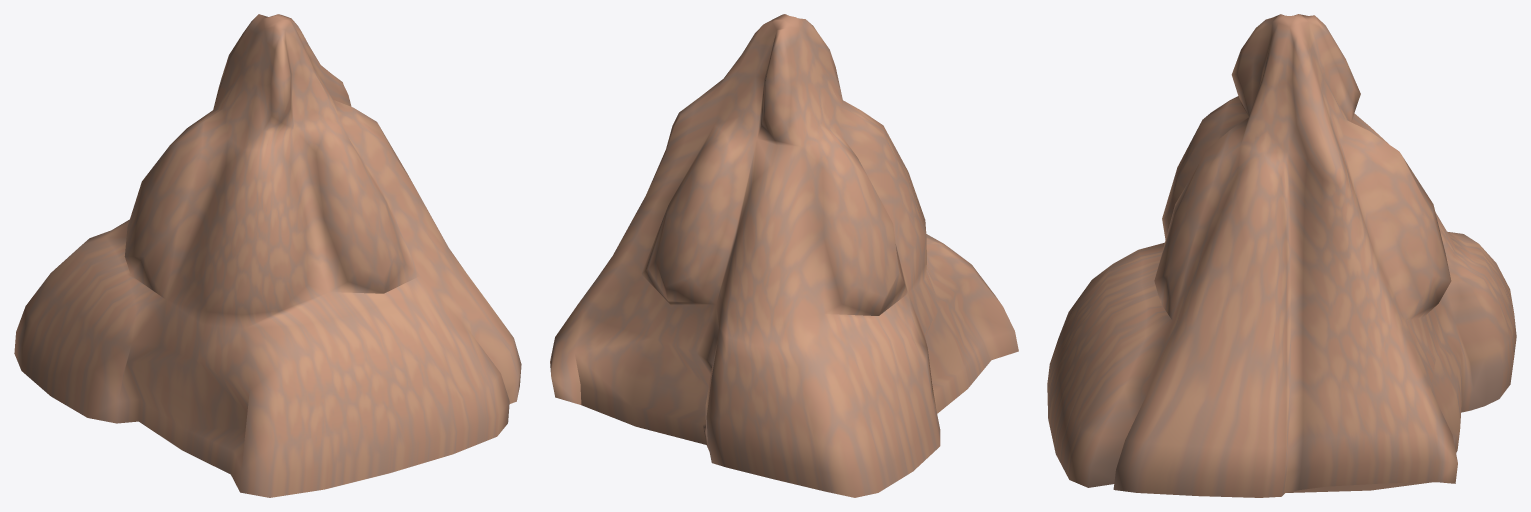
Rendered from AntHillChunk.fbx.
The picture shows the model from 3 angles, left to right: view 1: azimuth 30°, elevation 25°; view 2: azimuth 150°, elevation 25°; view 3: azimuth 270°, elevation 25°; orthographic projection. The views are drawn at different scales.
Parts seen in each view (by area): view 1: Rock; view 2: Rock; view 3: Rock.
Part boxes in pixels (x1=…): Rock: x1=14, y1=14, x2=521, y2=497; Rock: x1=550, y1=14, x2=1018, y2=497; Rock: x1=1047, y1=14, x2=1516, y2=497.
Size of the model in its own units: 0.8032 by 0.7951 by 0.8398.
Materials: 1 (1 with a texture image).
